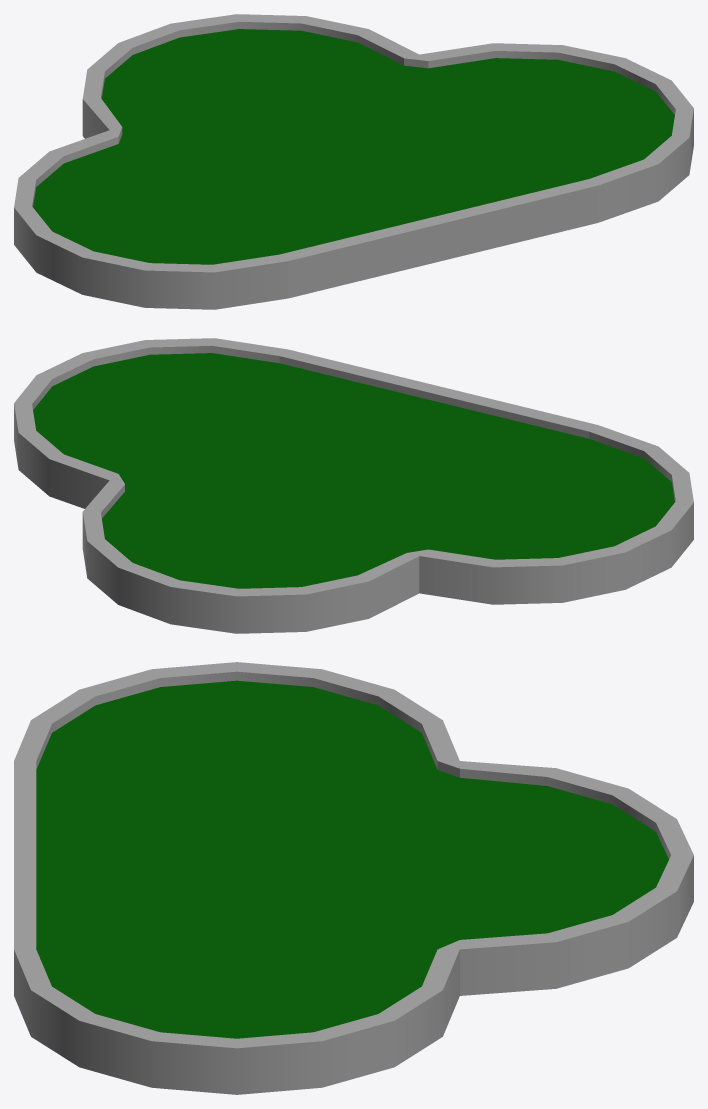
File: PlaygroundGrassyArea.fbx
3 views of the same model, one above another, from view 1: azimuth 30°, elevation 25°; view 2: azimuth 150°, elevation 25°; view 3: azimuth 270°, elevation 25° (orthographic). The views are drawn at different scales.
Visible parts, largest first — view 1: PlaygroundGrassyArea; view 2: PlaygroundGrassyArea; view 3: PlaygroundGrassyArea.
Part boxes in pixels (<box>): PlaygroundGrassyArea: <box>14,14,693,309</box>; PlaygroundGrassyArea: <box>14,338,693,633</box>; PlaygroundGrassyArea: <box>14,662,693,1094</box>.
Bounding box in the file's own units: 2048 × 115 × 1523.
